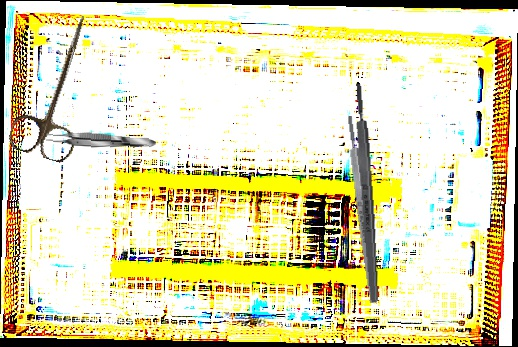Iris Scissors: (5, 5, 112, 166)
Scalpel Handle: (344, 115, 379, 304), (352, 83, 381, 303)
Tissue Forceps: (45, 130, 157, 151)
